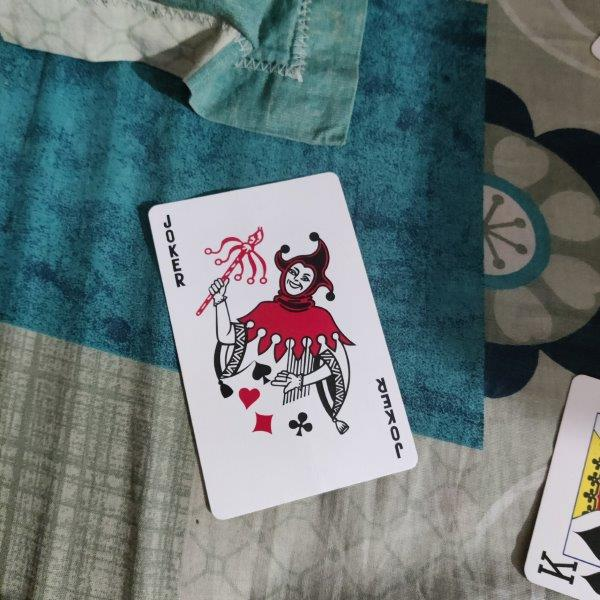Joker: (147, 170, 419, 519)
King of Spades: (522, 375, 600, 600)
